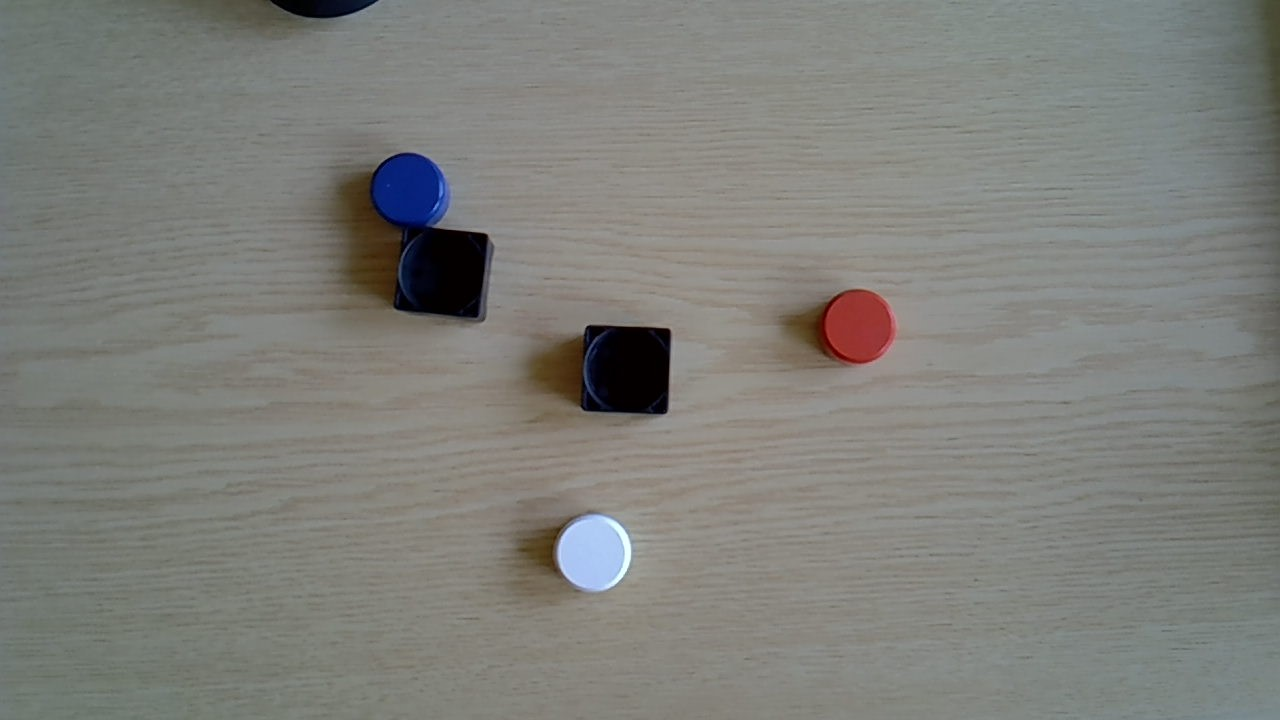Behaelter: (392, 225, 493, 324), (579, 324, 670, 418)
WerkStueck: (550, 514, 633, 595), (815, 289, 898, 367), (370, 150, 451, 226)
